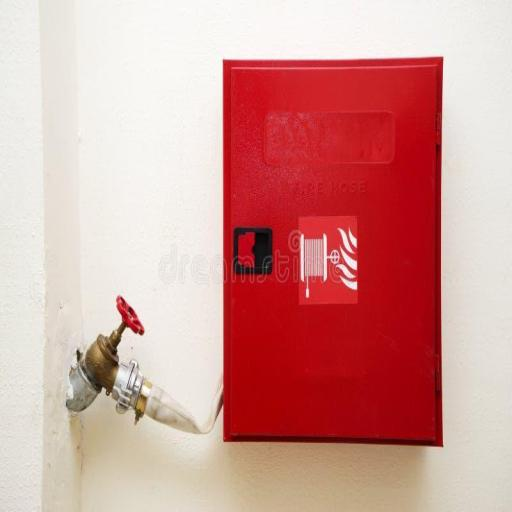fire_hose: (218, 47, 447, 460)
